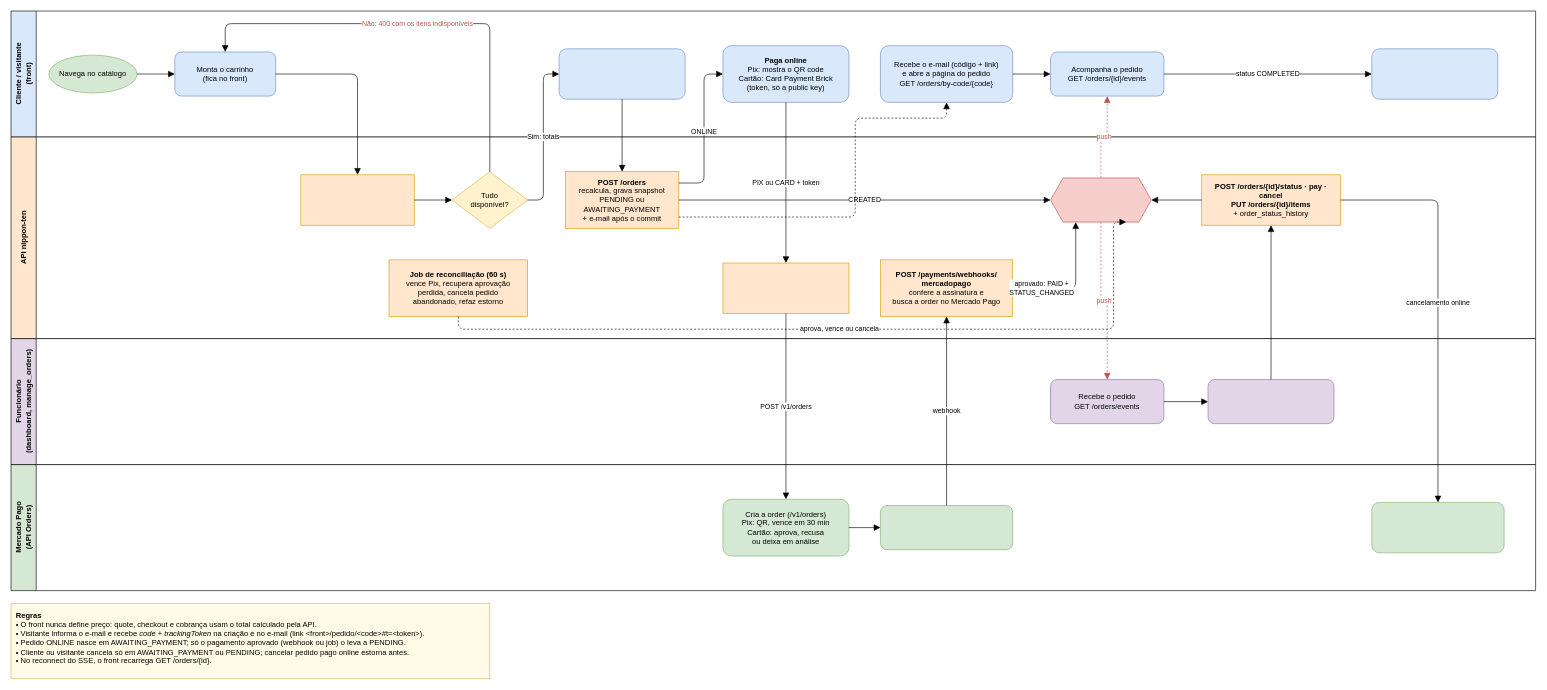
The diagram is 1547 pixels wide and 690 high, and some of its shapes have lost their labels. Each missing label, with the centre of its shape:
Avança status, marca pago (presencial), edita itens ou cancela: the point at 1270,401
Cancela a cobrança aberta ou estorna a aprovada (/cancel · /refund): the point at 1437,527
COMPLETED: envia feedback POST /orders/{id}/feedback: the point at 1434,73
Evento SSE (após o commit): the point at 1100,199
Notifica a mudança (type=order, data.id): the point at 946,527
POST /orders/quote recalcula preços, promoção e disponibilidade: the point at 357,199
POST /orders/{id}/payments cobra o total do pedido (X-Idempotency-Key): the point at 785,287
Revisa e faz checkout (atendimento, endereço, forma e momento do pagamento): the point at 621,73
